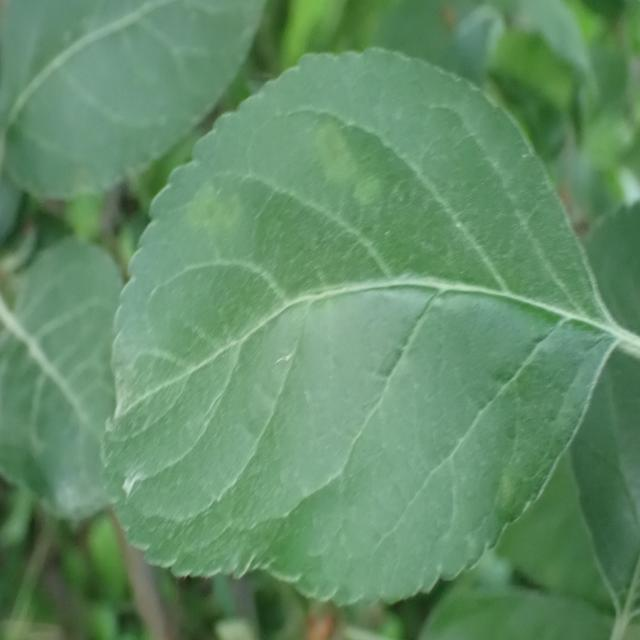scab: (106, 97, 514, 519)
